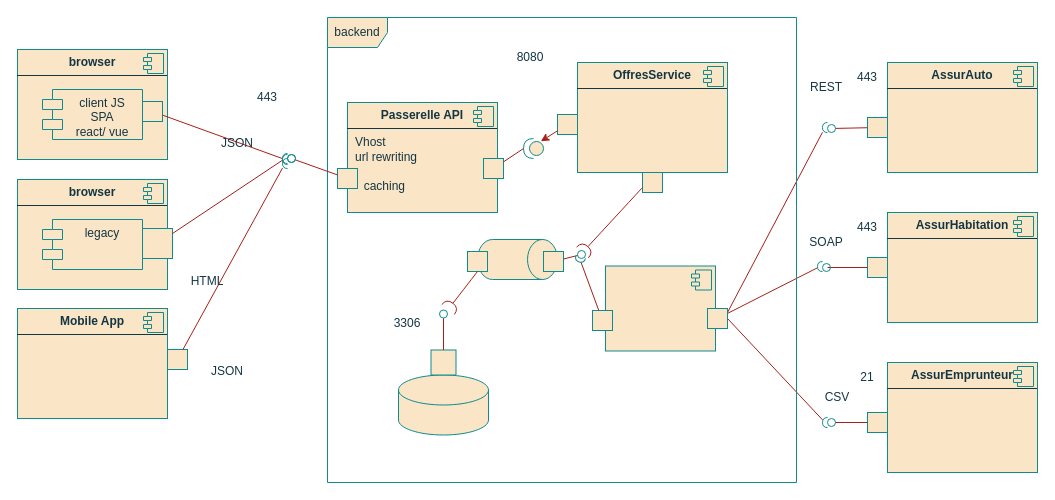
Some shapes in this 1055 by 500 pixel diagram are drawn without their labels. The shapes that lost their labels are listed below. From the top down, each one's centre as x and y in pixels, then its label:
At point (517, 259): "kafka".
At point (660, 308): "ETL".
